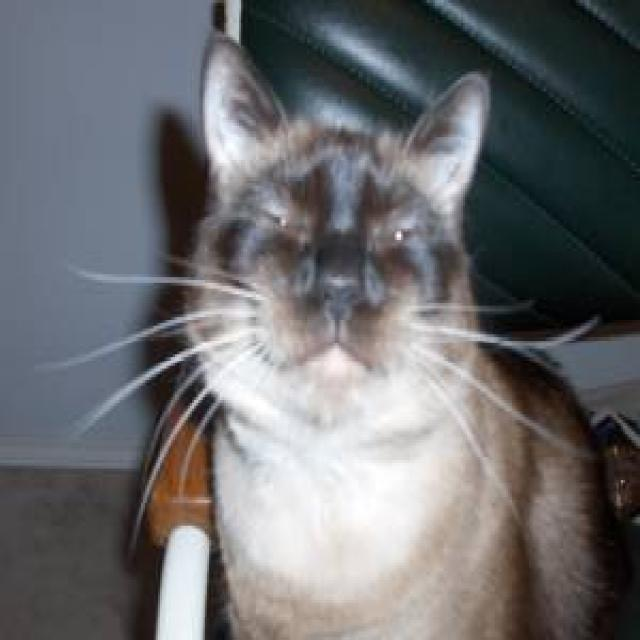Siamese: (173, 30, 497, 443)
